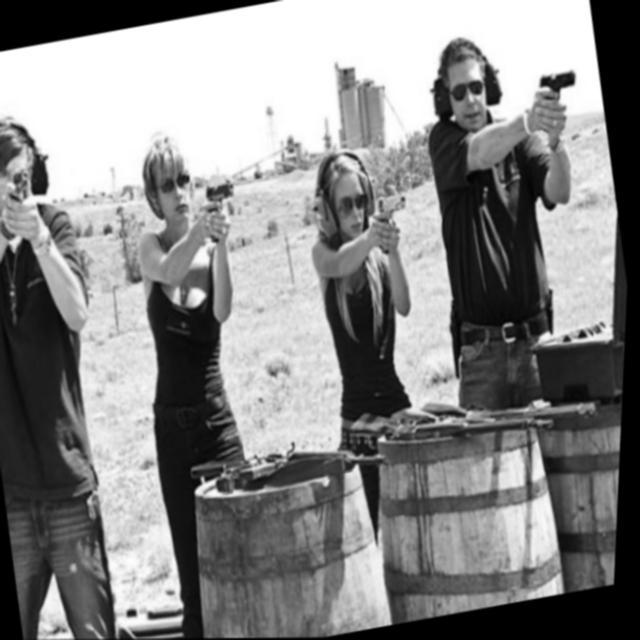weapon: (339, 372, 606, 472), (193, 442, 304, 493), (204, 178, 247, 236), (376, 192, 416, 254), (536, 69, 584, 116), (12, 168, 35, 204)
